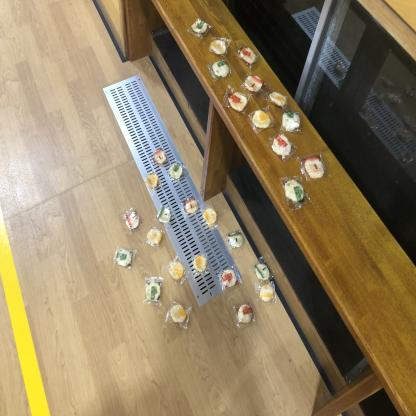green_setoshio: (277, 177, 309, 212), (114, 245, 138, 270), (144, 276, 164, 305), (280, 110, 304, 134), (210, 59, 233, 80), (155, 202, 175, 225), (252, 257, 272, 280), (168, 160, 187, 182), (226, 230, 246, 250), (191, 18, 210, 38)
red_setoshio: (222, 86, 250, 115), (300, 154, 328, 182), (230, 301, 256, 330), (270, 134, 294, 163), (219, 265, 244, 291), (122, 205, 143, 234), (243, 72, 268, 96), (237, 45, 261, 68), (182, 197, 200, 216), (153, 146, 168, 168)
yellow_setoshio: (165, 298, 193, 330), (249, 107, 276, 133), (167, 256, 188, 284), (145, 224, 166, 249), (203, 204, 221, 230), (209, 35, 231, 56), (268, 90, 290, 110), (256, 281, 276, 303), (145, 171, 162, 192), (192, 253, 209, 273)
